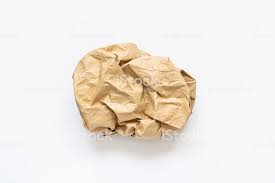crumpled paper: (70, 39, 202, 147)
